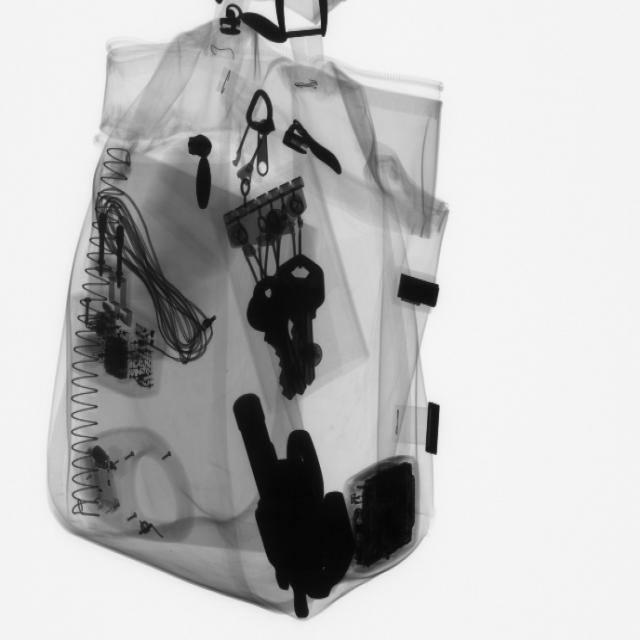GUN: (232, 393, 358, 618)
